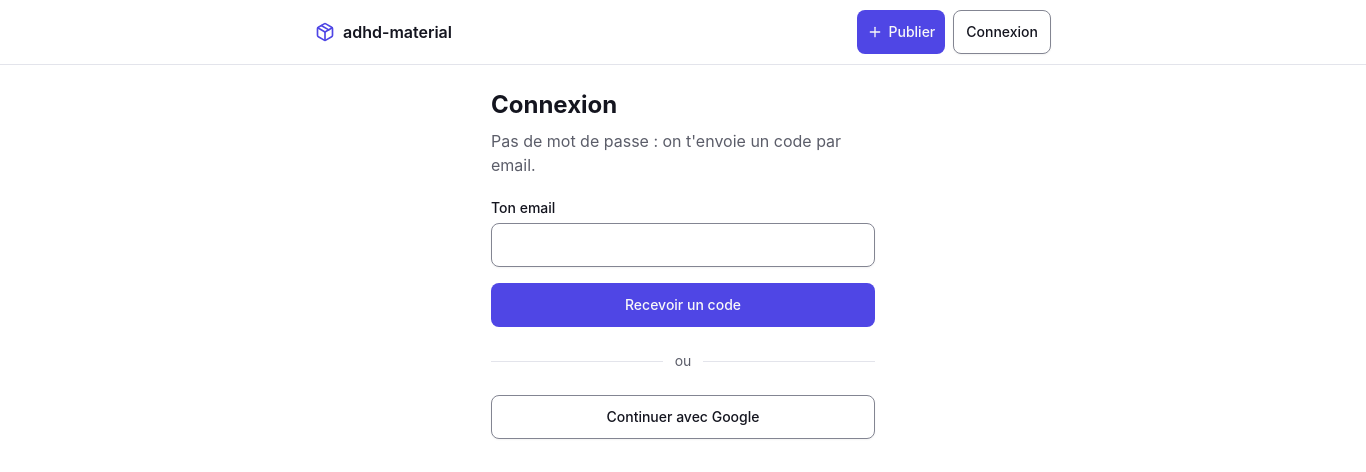
Test: connexion par email puis code › refuse un code incomplet sans appeler le serveur
The image size is (1366, 472).
In the field labelled "Ton email": (683, 245) [491,223,875,267], type "moi@example.com"
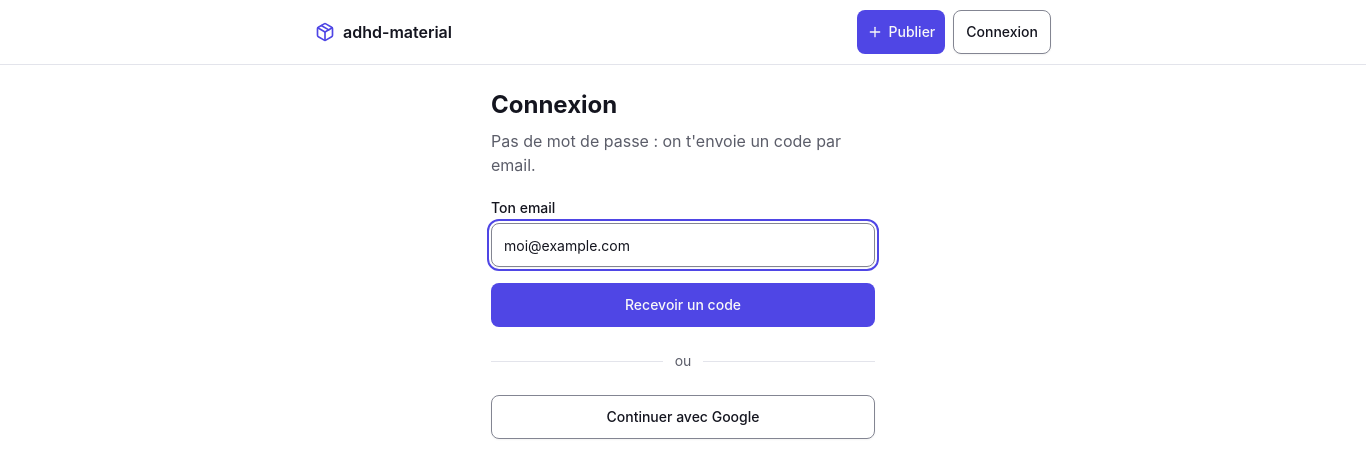
Click the button "Recevoir un code": (683, 305) [491,283,875,327]
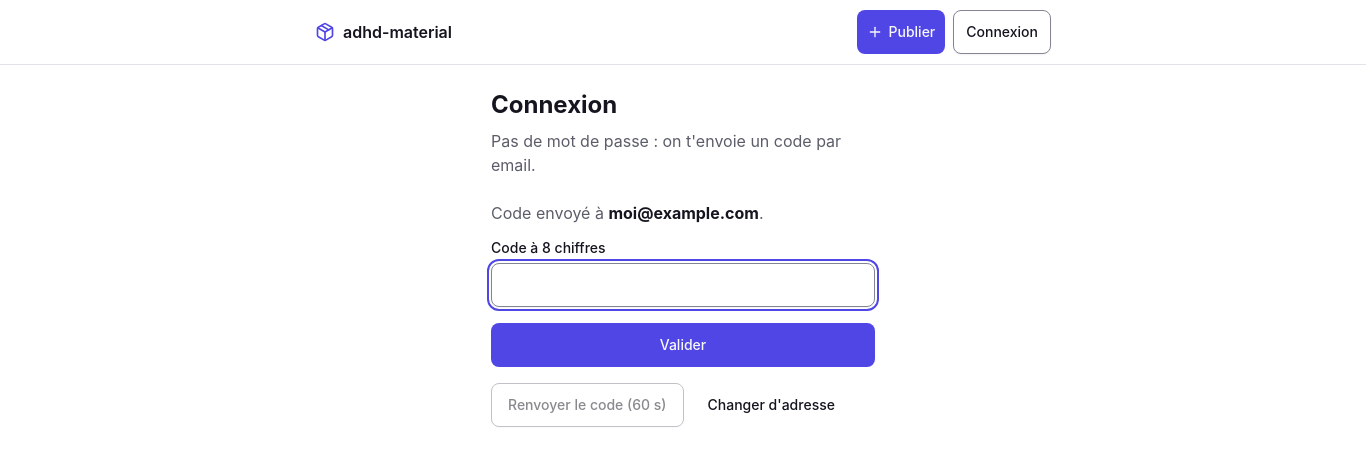
In the field labelled "Code à 8 chiffres": (683, 285) [491,263,875,307], type "123"
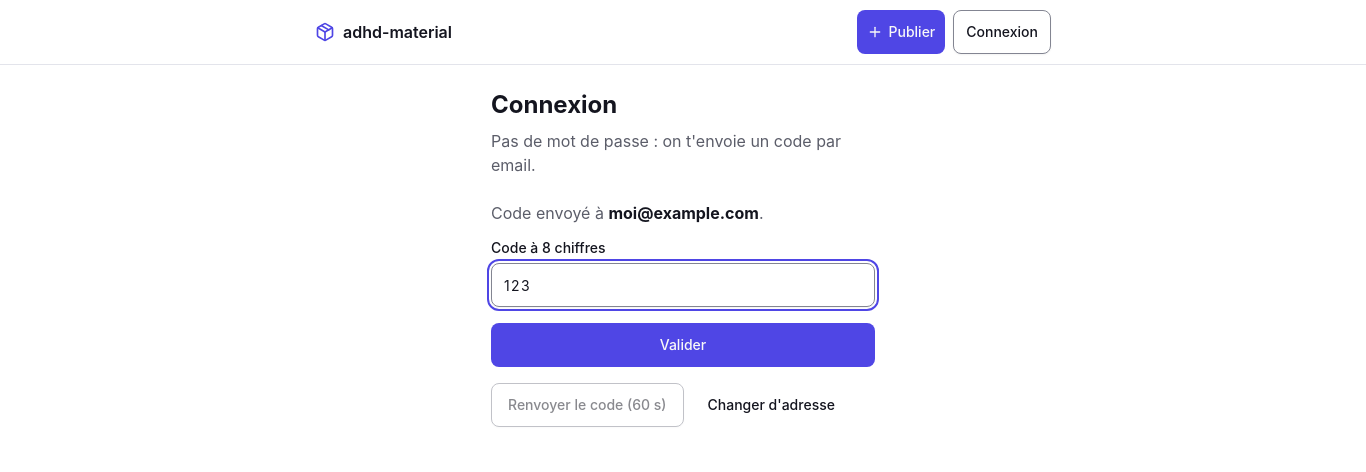
Click the button "Valider": (683, 345) [491,323,875,367]
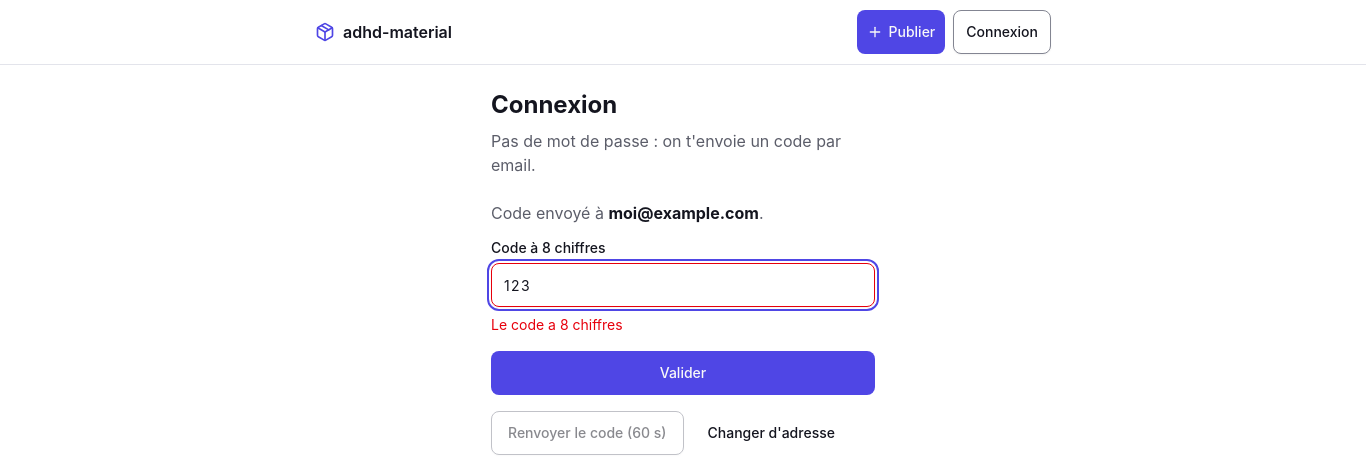
Now the text "Le code a 8 chiffres" is shown, box [491,316,623,333]
